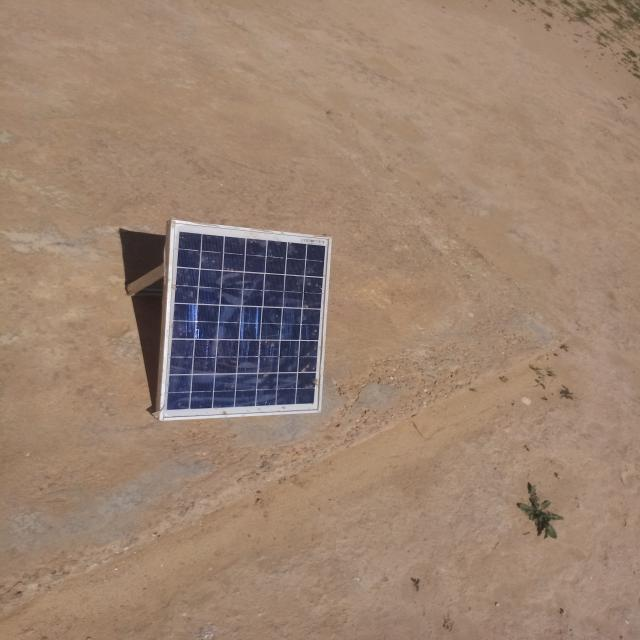faulty: (160, 221, 330, 419)
